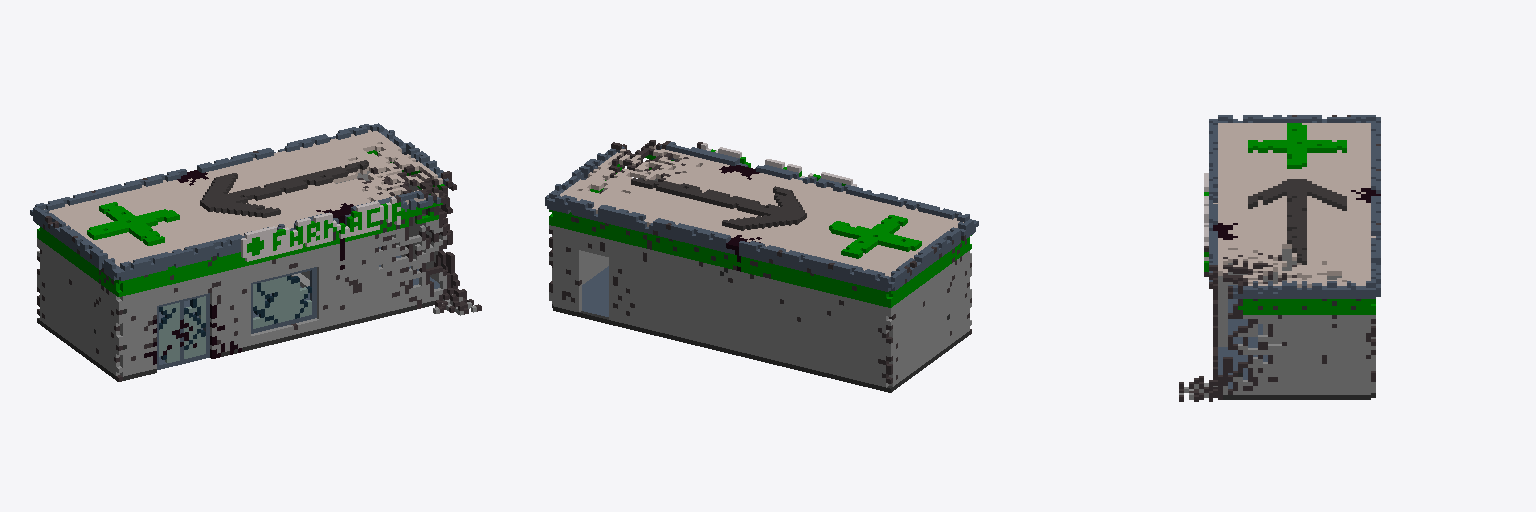
The picture shows the model from 3 angles: view 1: azimuth 30°, elevation 25°; view 2: azimuth 150°, elevation 25°; view 3: azimuth 270°, elevation 25°; orthographic projection.
Visible parts, largest first — view 1: object 1; view 2: object 1; view 3: object 1.
Part boxes in pixels (x1,y1,x2,y2): object 1: (30,123,481,381); object 1: (545,140,978,392); object 1: (1179,115,1380,401).
Size of the model in its own units: 8.2 by 2.7 by 4.1.
Materials: 1 (1 with a texture image).